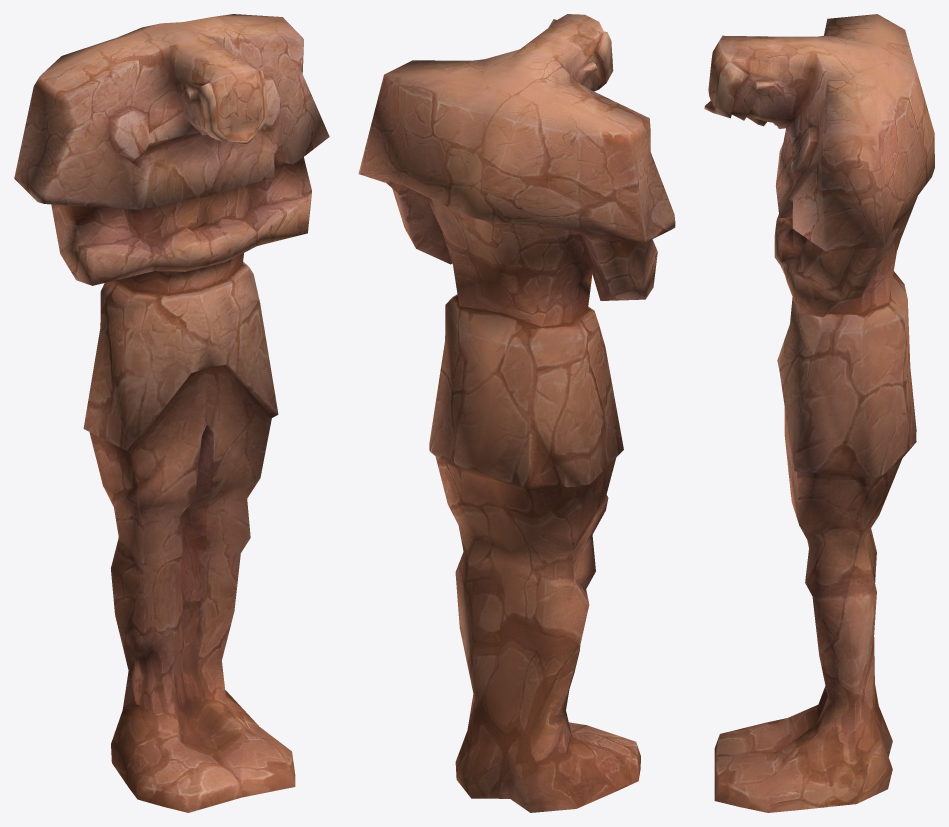
File: kor_vod_greatstatue.glb
The picture shows the model from 3 angles, left to right: view 1: azimuth 30°, elevation 25°; view 2: azimuth 150°, elevation 25°; view 3: azimuth 270°, elevation 25°; orthographic projection.
Parts seen in each view (by area): view 1: kor_vod_greatstatue; view 2: kor_vod_greatstatue; view 3: kor_vod_greatstatue.
Part boxes in pixels (bbox=[...]): kor_vod_greatstatue: bbox=[14, 14, 329, 812]; kor_vod_greatstatue: bbox=[358, 14, 675, 812]; kor_vod_greatstatue: bbox=[704, 14, 934, 812].
Bounding box in the file's own units: 11.57 × 27.7 × 7.91.
Materials: 1 (1 with a texture image).
